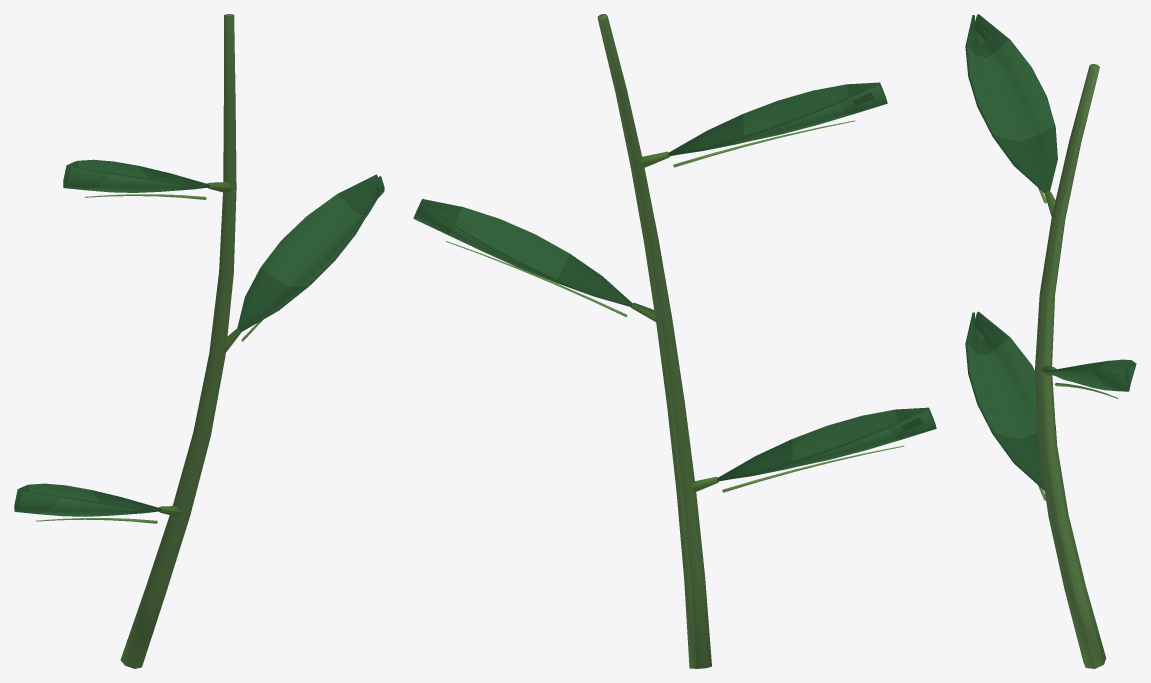
The model's file is garden-rose-bud-stem-2.glb.
3 renders of one model, left to right at view 1: azimuth 30°, elevation 25°; view 2: azimuth 150°, elevation 25°; view 3: azimuth 270°, elevation 25°, orthographic. The views are drawn at different scales.
Visible parts, largest first — view 1: rose-bud-stem-2; view 2: rose-bud-stem-2; view 3: rose-bud-stem-2.
Part boxes in pixels (x1,y1,x2,y2): rose-bud-stem-2: (14,14,384,668); rose-bud-stem-2: (413,14,936,668); rose-bud-stem-2: (965,14,1136,668).
Bounding box in the file's own units: 0.3095 × 0.4167 × 0.0997.
